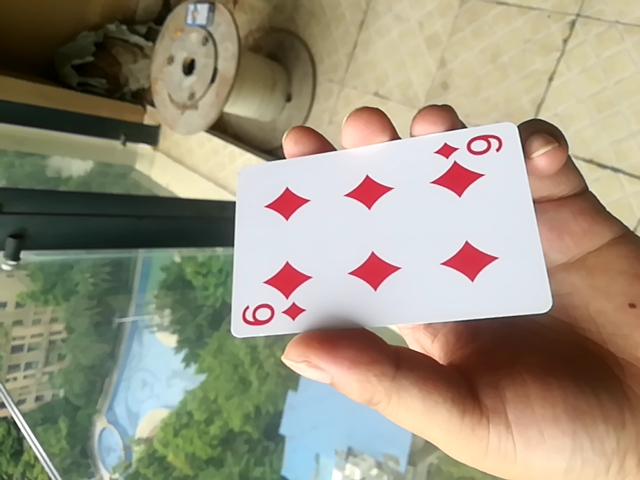fk 6: (225, 122, 553, 345)
